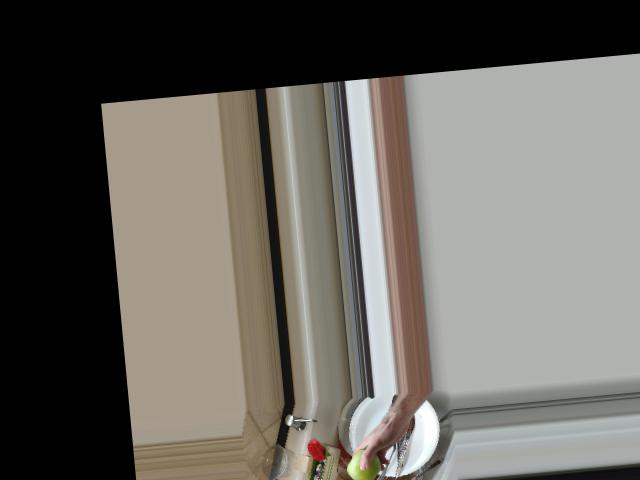apple: (344, 444, 385, 480)
